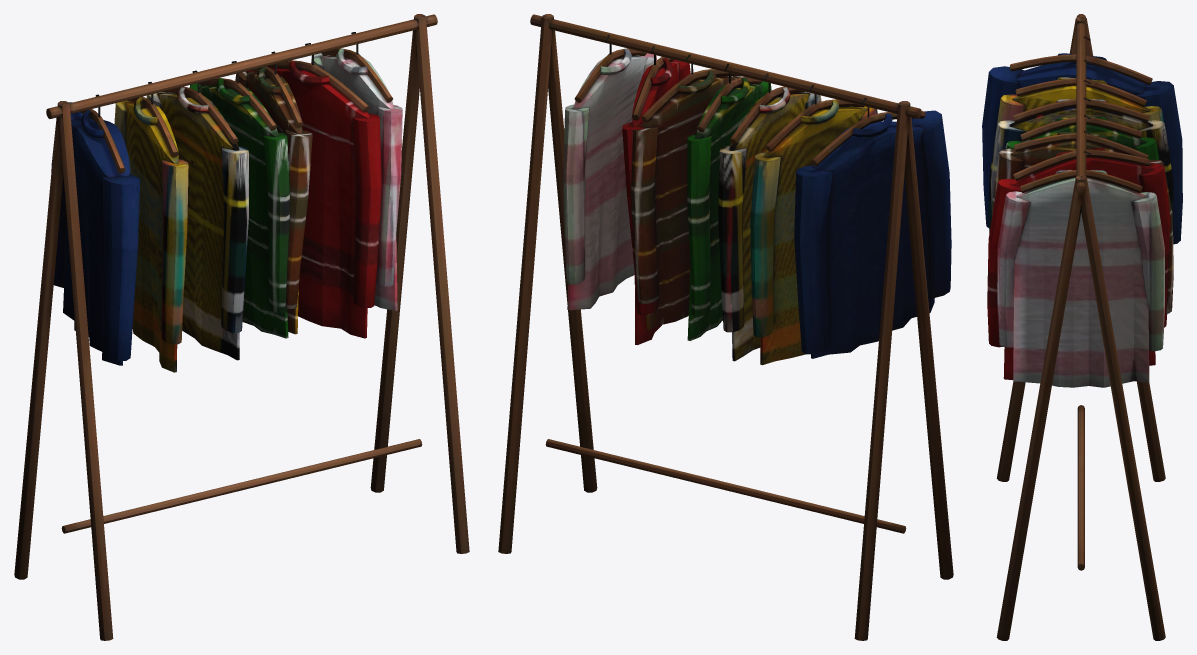
Rendered from tz_wente_rack.glb.
The picture shows the model from 3 angles, left to right: view 1: azimuth 30°, elevation 25°; view 2: azimuth 150°, elevation 25°; view 3: azimuth 270°, elevation 25°; orthographic projection. The views are drawn at different scales.
Visible parts, largest first — view 1: wente_interior; view 2: wente_interior; view 3: wente_interior.
Part boxes in pixels (left/top/right/bottom): wente_interior: left=14, top=14, right=469, bottom=640; wente_interior: left=498, top=14, right=953, bottom=640; wente_interior: left=982, top=14, right=1182, bottom=640.
Bounding box in the file's own units: 1.3 × 1.63 × 0.6407.
1 material, 1 textured.
